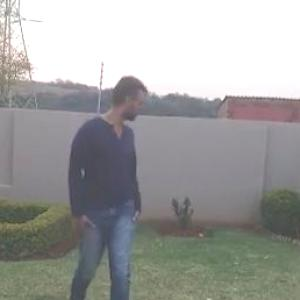follow: (65, 65, 151, 299)
